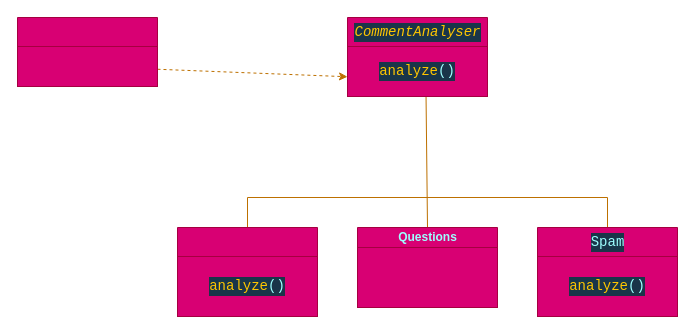
Image size: 695x334. Some labels were removed from this diagram. The shapes that lost their labels are listed below. From the top down, each one's box as (x1, y1, x2, y2) in pixels, then its label:
(16, 16, 158, 86): Main
(176, 226, 318, 316): Comments
(356, 246, 498, 308): anal yze ()
